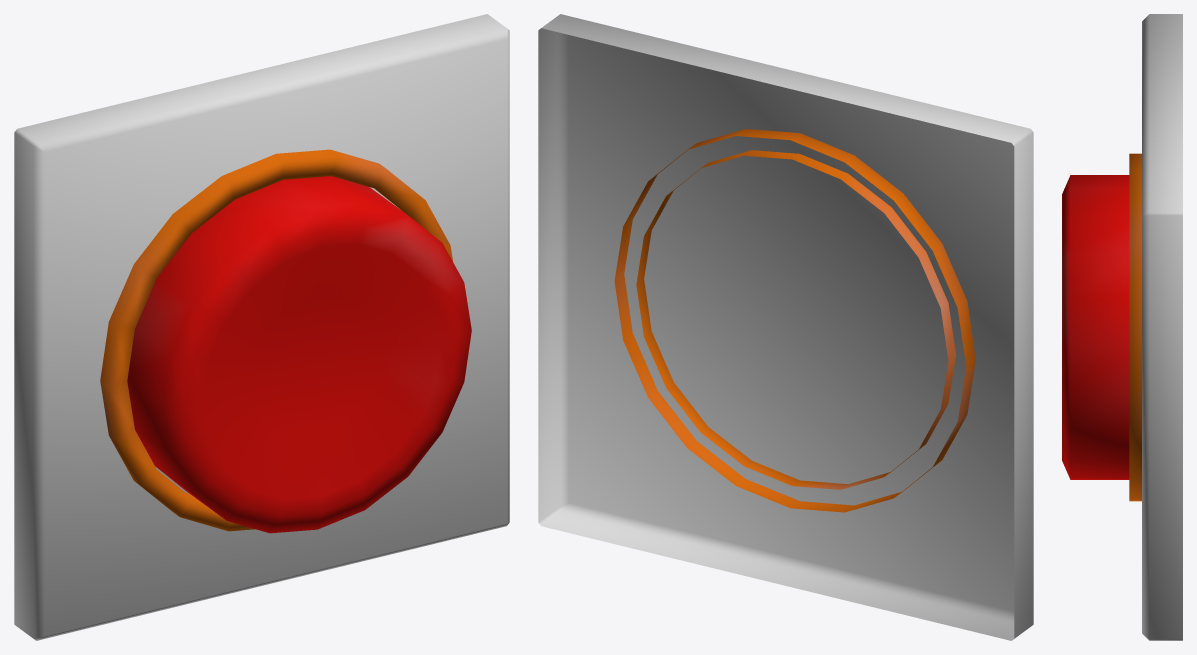
Rendered from mod_button_T.fbx.
The picture shows the model from 3 angles, left to right: view 1: azimuth 30°, elevation 25°; view 2: azimuth 150°, elevation 25°; view 3: azimuth 270°, elevation 25°; orthographic projection. The views are drawn at different scales.
Parts seen in each view (by area): view 1: module_base10, button; view 2: module_base10; view 3: module_base10, button.
Boxes of the visible parts, x1,y1,x2,y2 form: module_base10: [14, 14, 509, 640]; button: [127, 176, 471, 533]; module_base10: [538, 14, 1033, 640]; module_base10: [1129, 14, 1182, 640]; button: [1062, 175, 1129, 479].
Bounding box in the file's own units: 6 × 6 × 1.53.
